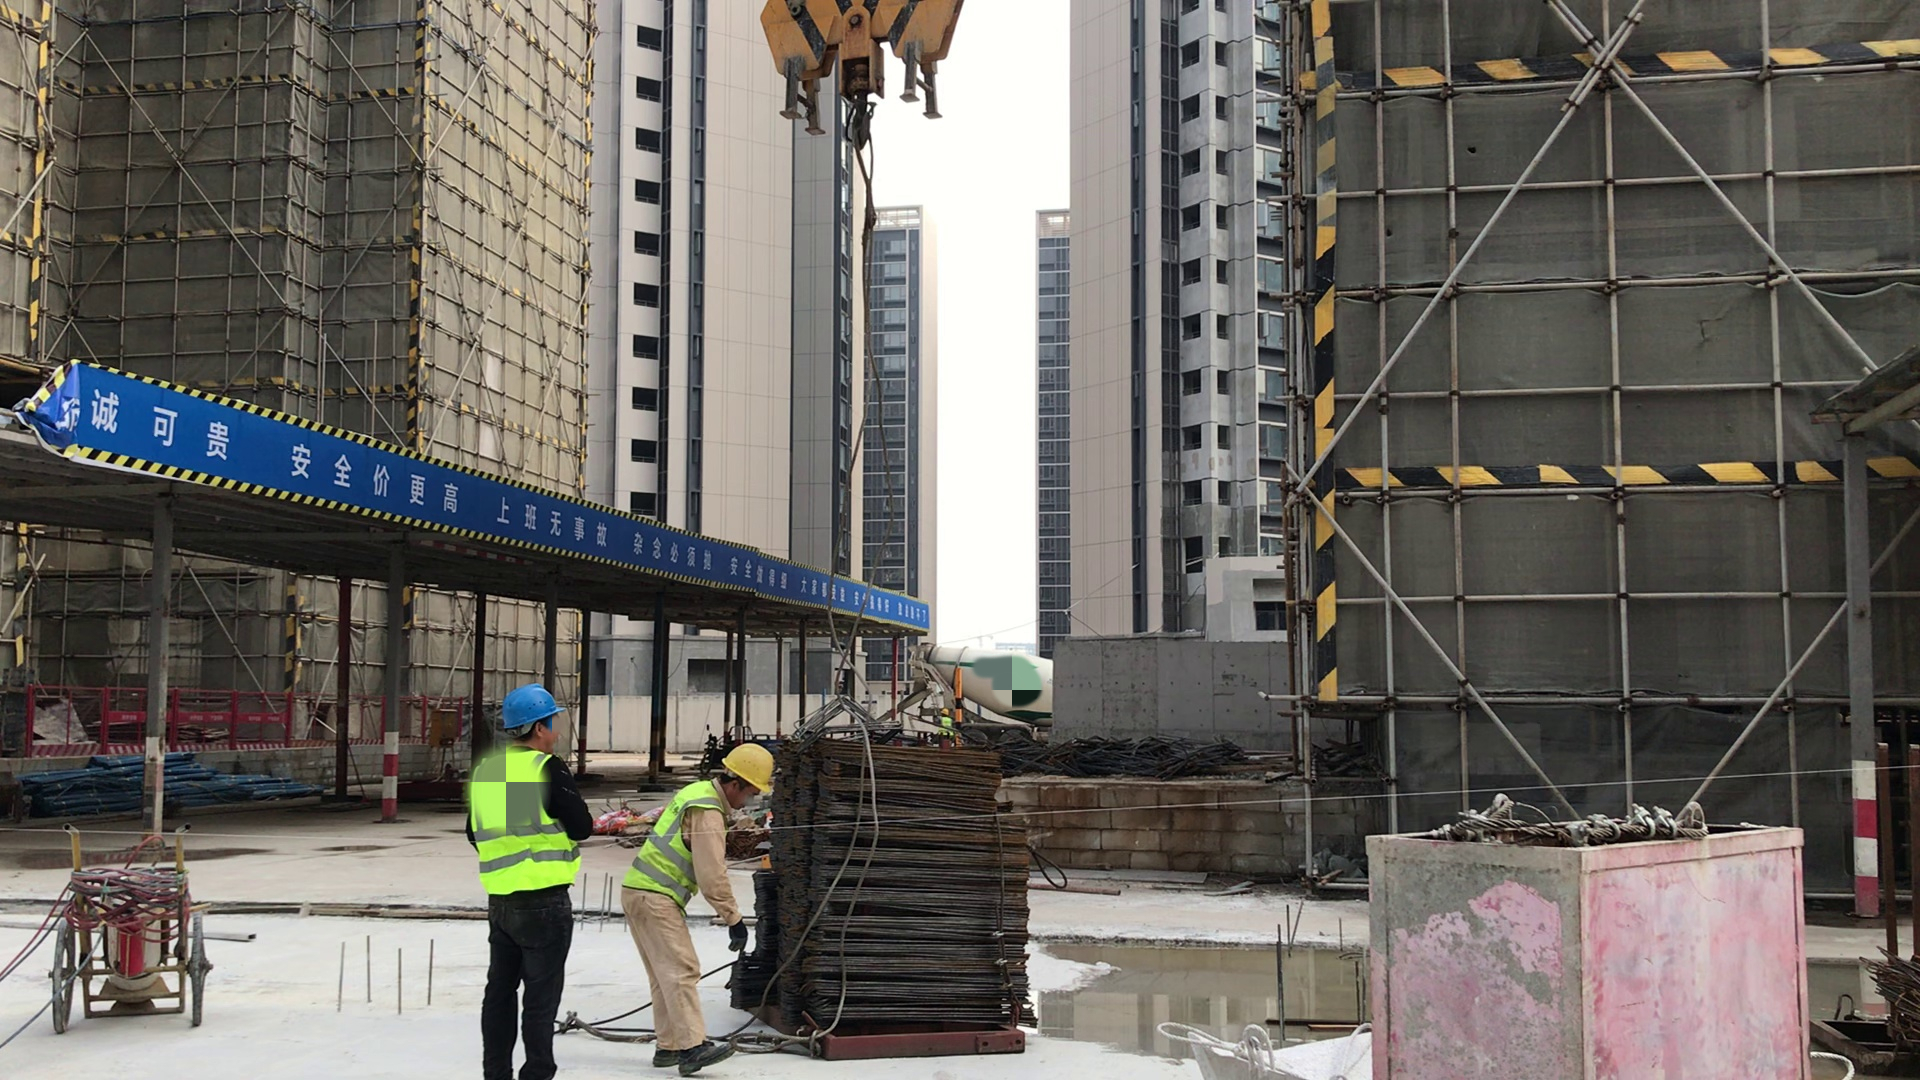ebox: (431, 704, 457, 751)
fence: (21, 684, 468, 759)
helmet: (720, 741, 778, 800), (495, 686, 568, 731), (939, 707, 950, 715)
hook: (753, 1, 961, 140)
hopper: (1149, 1012, 1378, 1080)
person: (464, 678, 597, 1080), (622, 729, 778, 1062), (936, 707, 954, 738)
slogan: (60, 356, 250, 483), (282, 433, 478, 518), (721, 555, 939, 628), (492, 485, 613, 552), (628, 522, 719, 573)
vest: (472, 751, 578, 894), (623, 780, 719, 906), (939, 717, 953, 734)
